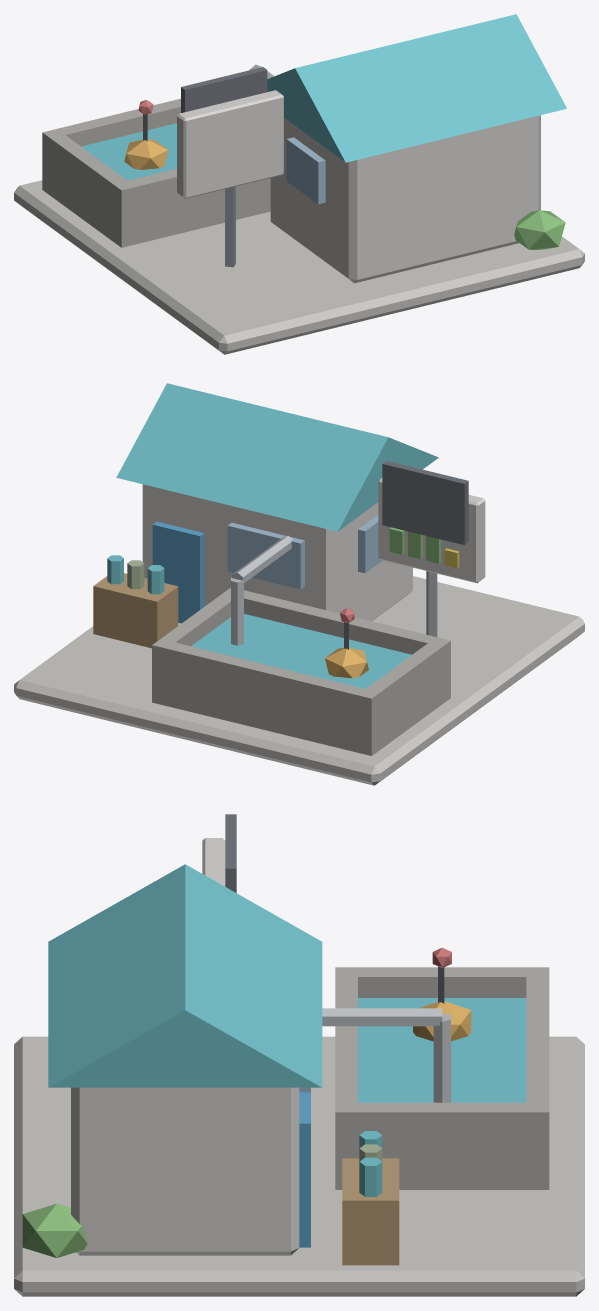
The model's file is agua__monitor_qualidade_agua.glb.
3 renders of one model, top to bottom at view 1: azimuth 30°, elevation 25°; view 2: azimuth 150°, elevation 25°; view 3: azimuth 270°, elevation 25°, orthographic. The views are drawn at different scales.
Visible parts, largest first — view 1: agua__monitor_qualidade_agua; view 2: agua__monitor_qualidade_agua; view 3: agua__monitor_qualidade_agua.
Boxes of the visible parts, <box> form: agua__monitor_qualidade_agua: <box>14,14,584,354</box>; agua__monitor_qualidade_agua: <box>14,383,584,785</box>; agua__monitor_qualidade_agua: <box>14,814,584,1296</box>.
Bounding box in the file's own units: 2 × 1.1 × 2.
